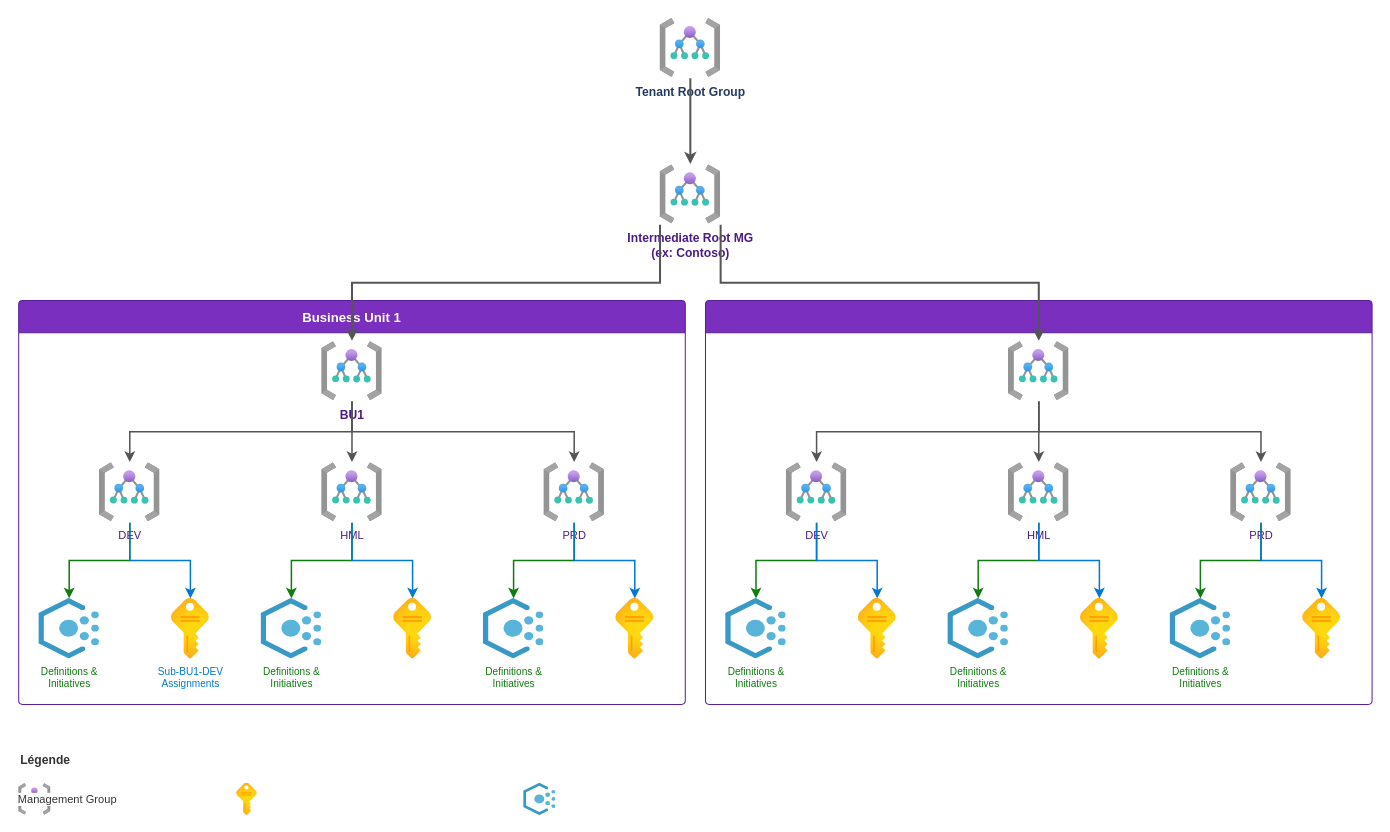
Image size: 1390x832. Some labels were removed from this diagram. The shapes that lost their labels are listed below. From the top down, each one's box as (x1, y1, x2, y2) in pixels, then its label:
(1008, 340, 1069, 401): BU2
(704, 299, 1372, 704): Business Unit 2
(382, 598, 442, 659): Sub-BU1-HML Assignments
(604, 598, 665, 659): Sub-BU1-PRD Assignments
(846, 598, 907, 659): Sub-BU2-DEV Assignments
(1069, 598, 1129, 659): Sub-BU2-HML Assignments
(1291, 598, 1351, 659): Sub-BU2-PRD Assignments
(230, 783, 263, 815): Subscription + Assignments
(523, 783, 556, 815): Definitions & Initiatives (Policy)
